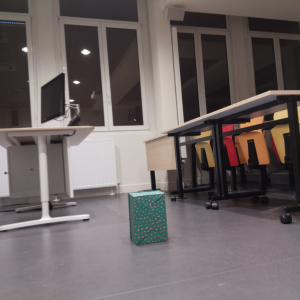small: (124, 188, 170, 248)
